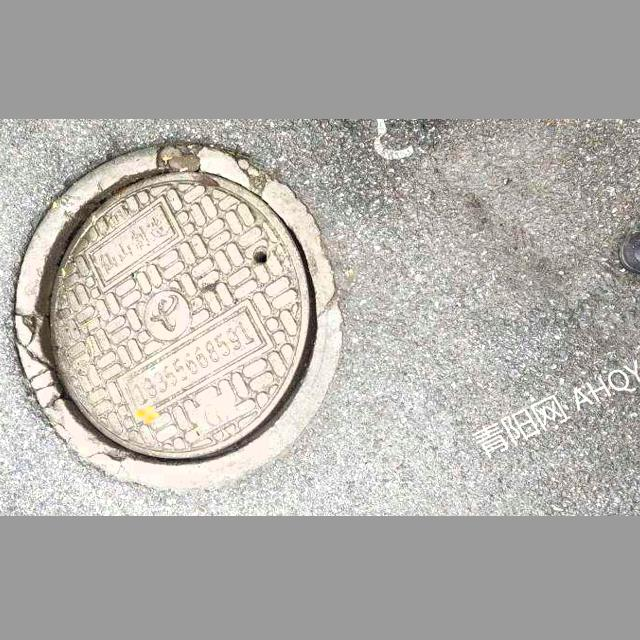circle: (0, 135, 369, 500)
